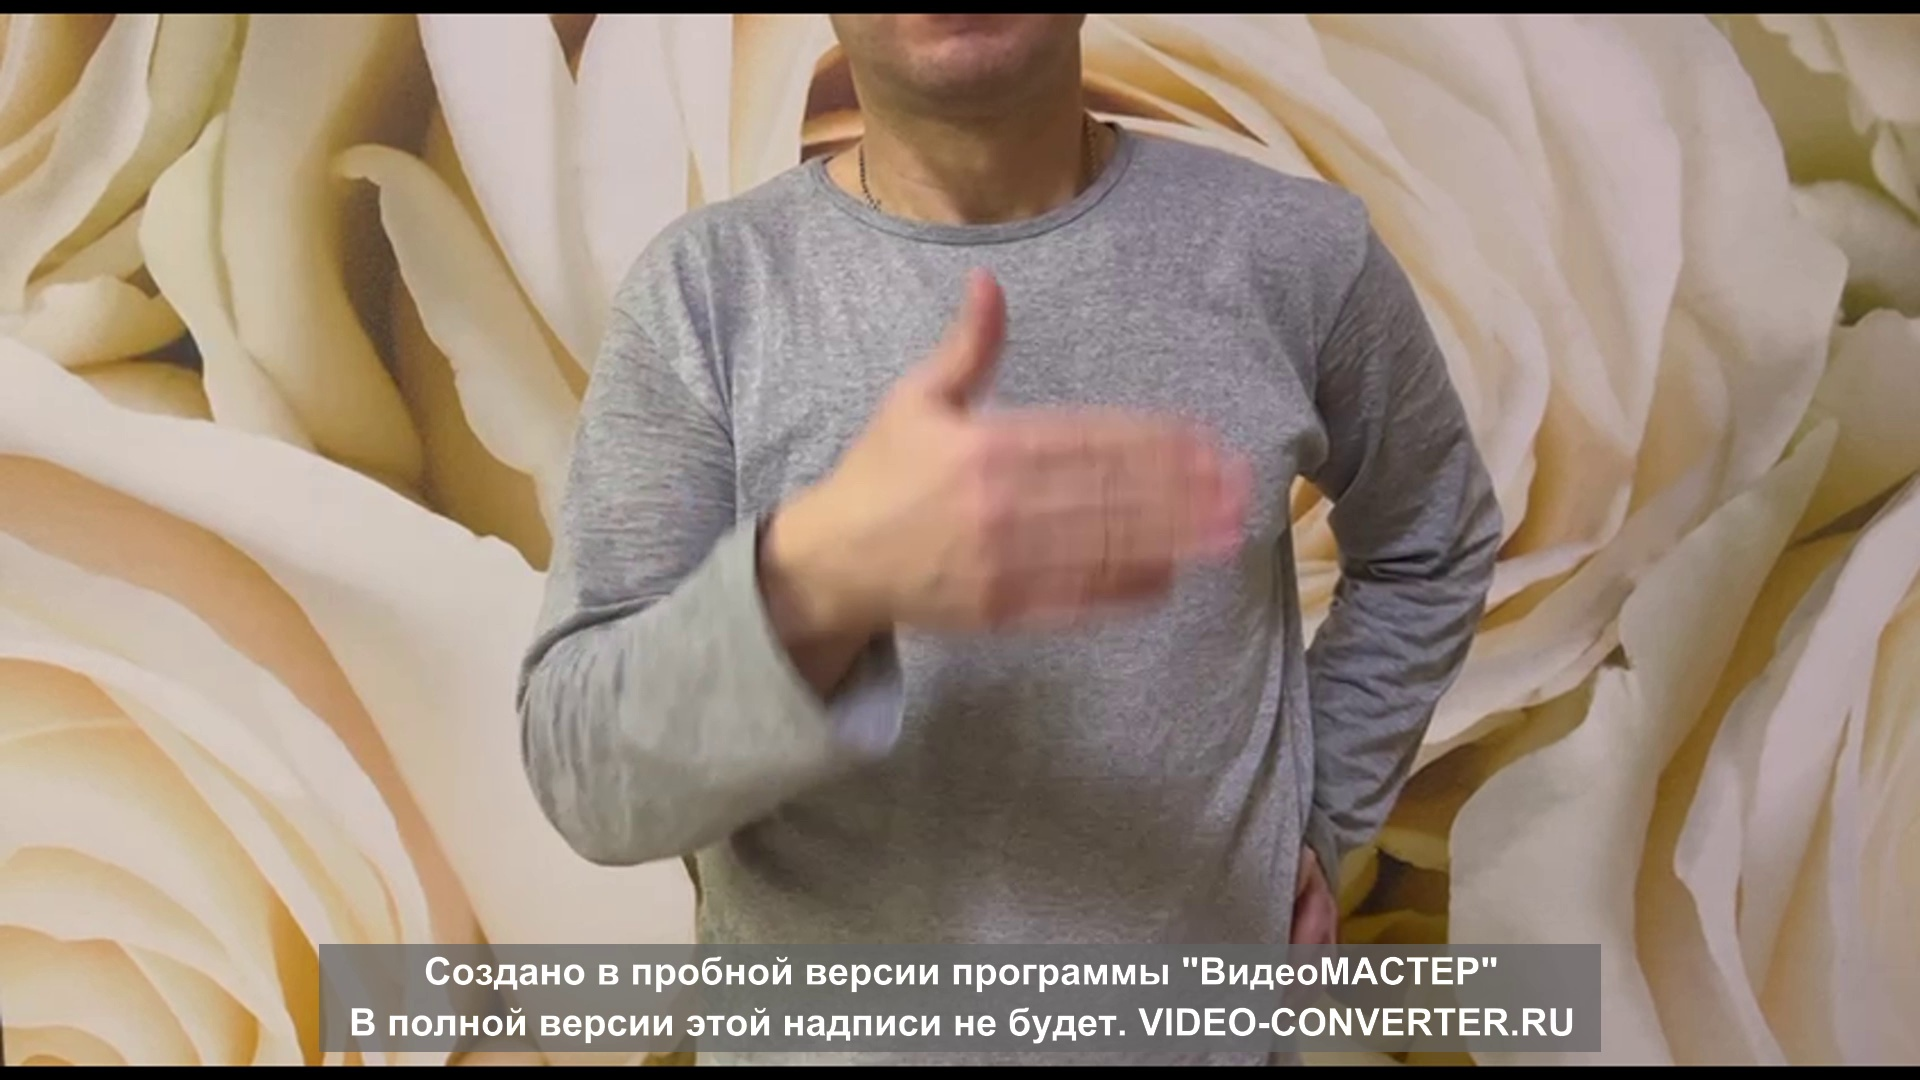Кисть: (857, 270, 1242, 633)
